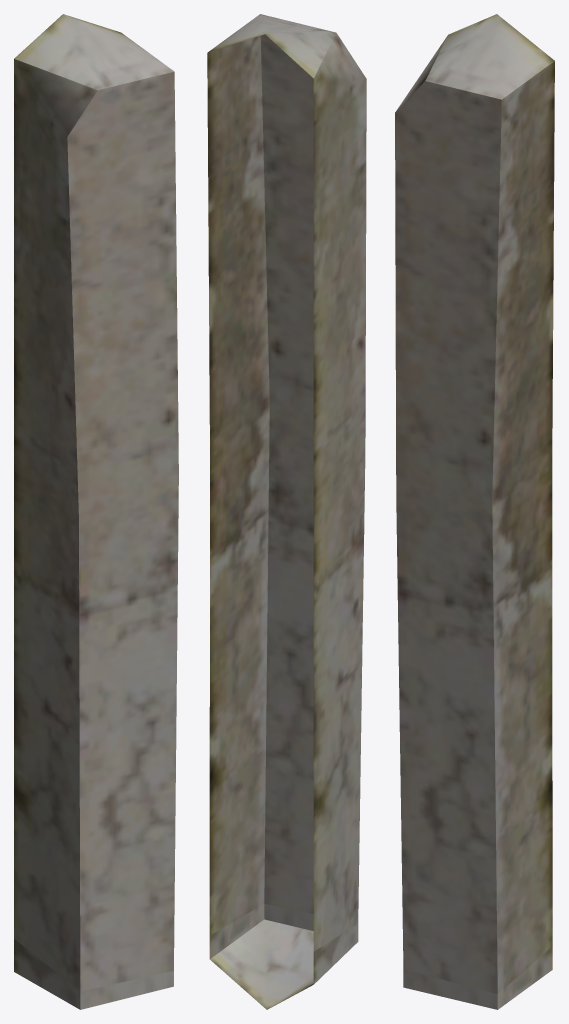
File: border_2m_white_edge.glb
The picture shows the model from 3 angles, left to right: view 1: azimuth 30°, elevation 25°; view 2: azimuth 150°, elevation 25°; view 3: azimuth 330°, elevation 25°; orthographic projection.
Parts seen in each view (by area): view 1: set_0_group_0; view 2: set_0_group_0; view 3: set_0_group_0.
Part boxes in pixels (<box>): set_0_group_0: <box>14,14,178,1009</box>; set_0_group_0: <box>207,14,366,1009</box>; set_0_group_0: <box>395,14,554,1009</box>.
Size of the model in its own units: 0.3195 by 2.8 by 0.3111.
1 material, 1 textured.
